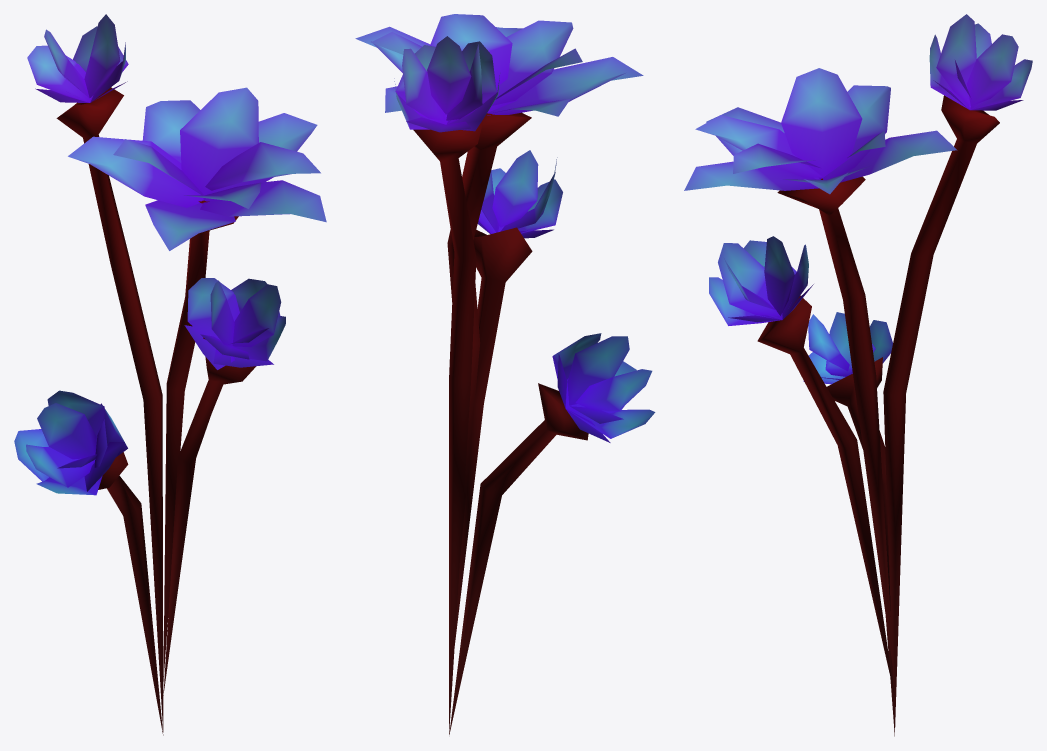
File: SM_Env_Bush_Palm_01_Flowers_01.gltf
The picture shows the model from 3 angles, left to right: view 1: azimuth 30°, elevation 25°; view 2: azimuth 150°, elevation 25°; view 3: azimuth 270°, elevation 25°; orthographic projection. The views are drawn at different scales.
Parts seen in each view (by area): view 1: SM_Env_Bush_Palm_01_Flowers_01_LOD0; view 2: SM_Env_Bush_Palm_01_Flowers_01_LOD0; view 3: SM_Env_Bush_Palm_01_Flowers_01_LOD0.
Boxes of the visible parts, x1,y1,x2,y2 form: SM_Env_Bush_Palm_01_Flowers_01_LOD0: [14, 14, 326, 735]; SM_Env_Bush_Palm_01_Flowers_01_LOD0: [355, 14, 655, 734]; SM_Env_Bush_Palm_01_Flowers_01_LOD0: [684, 14, 1032, 736].
Size of the model in its own units: 1.01 by 2.34 by 1.07.
